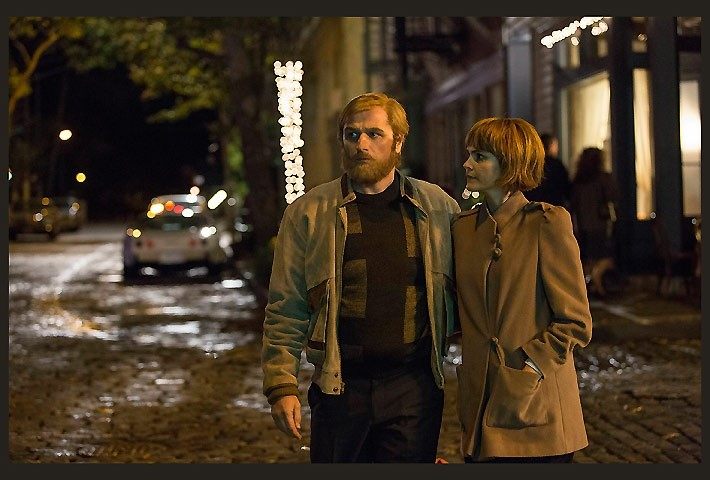face_no_mask: (337, 95, 406, 184), (464, 119, 541, 193)
